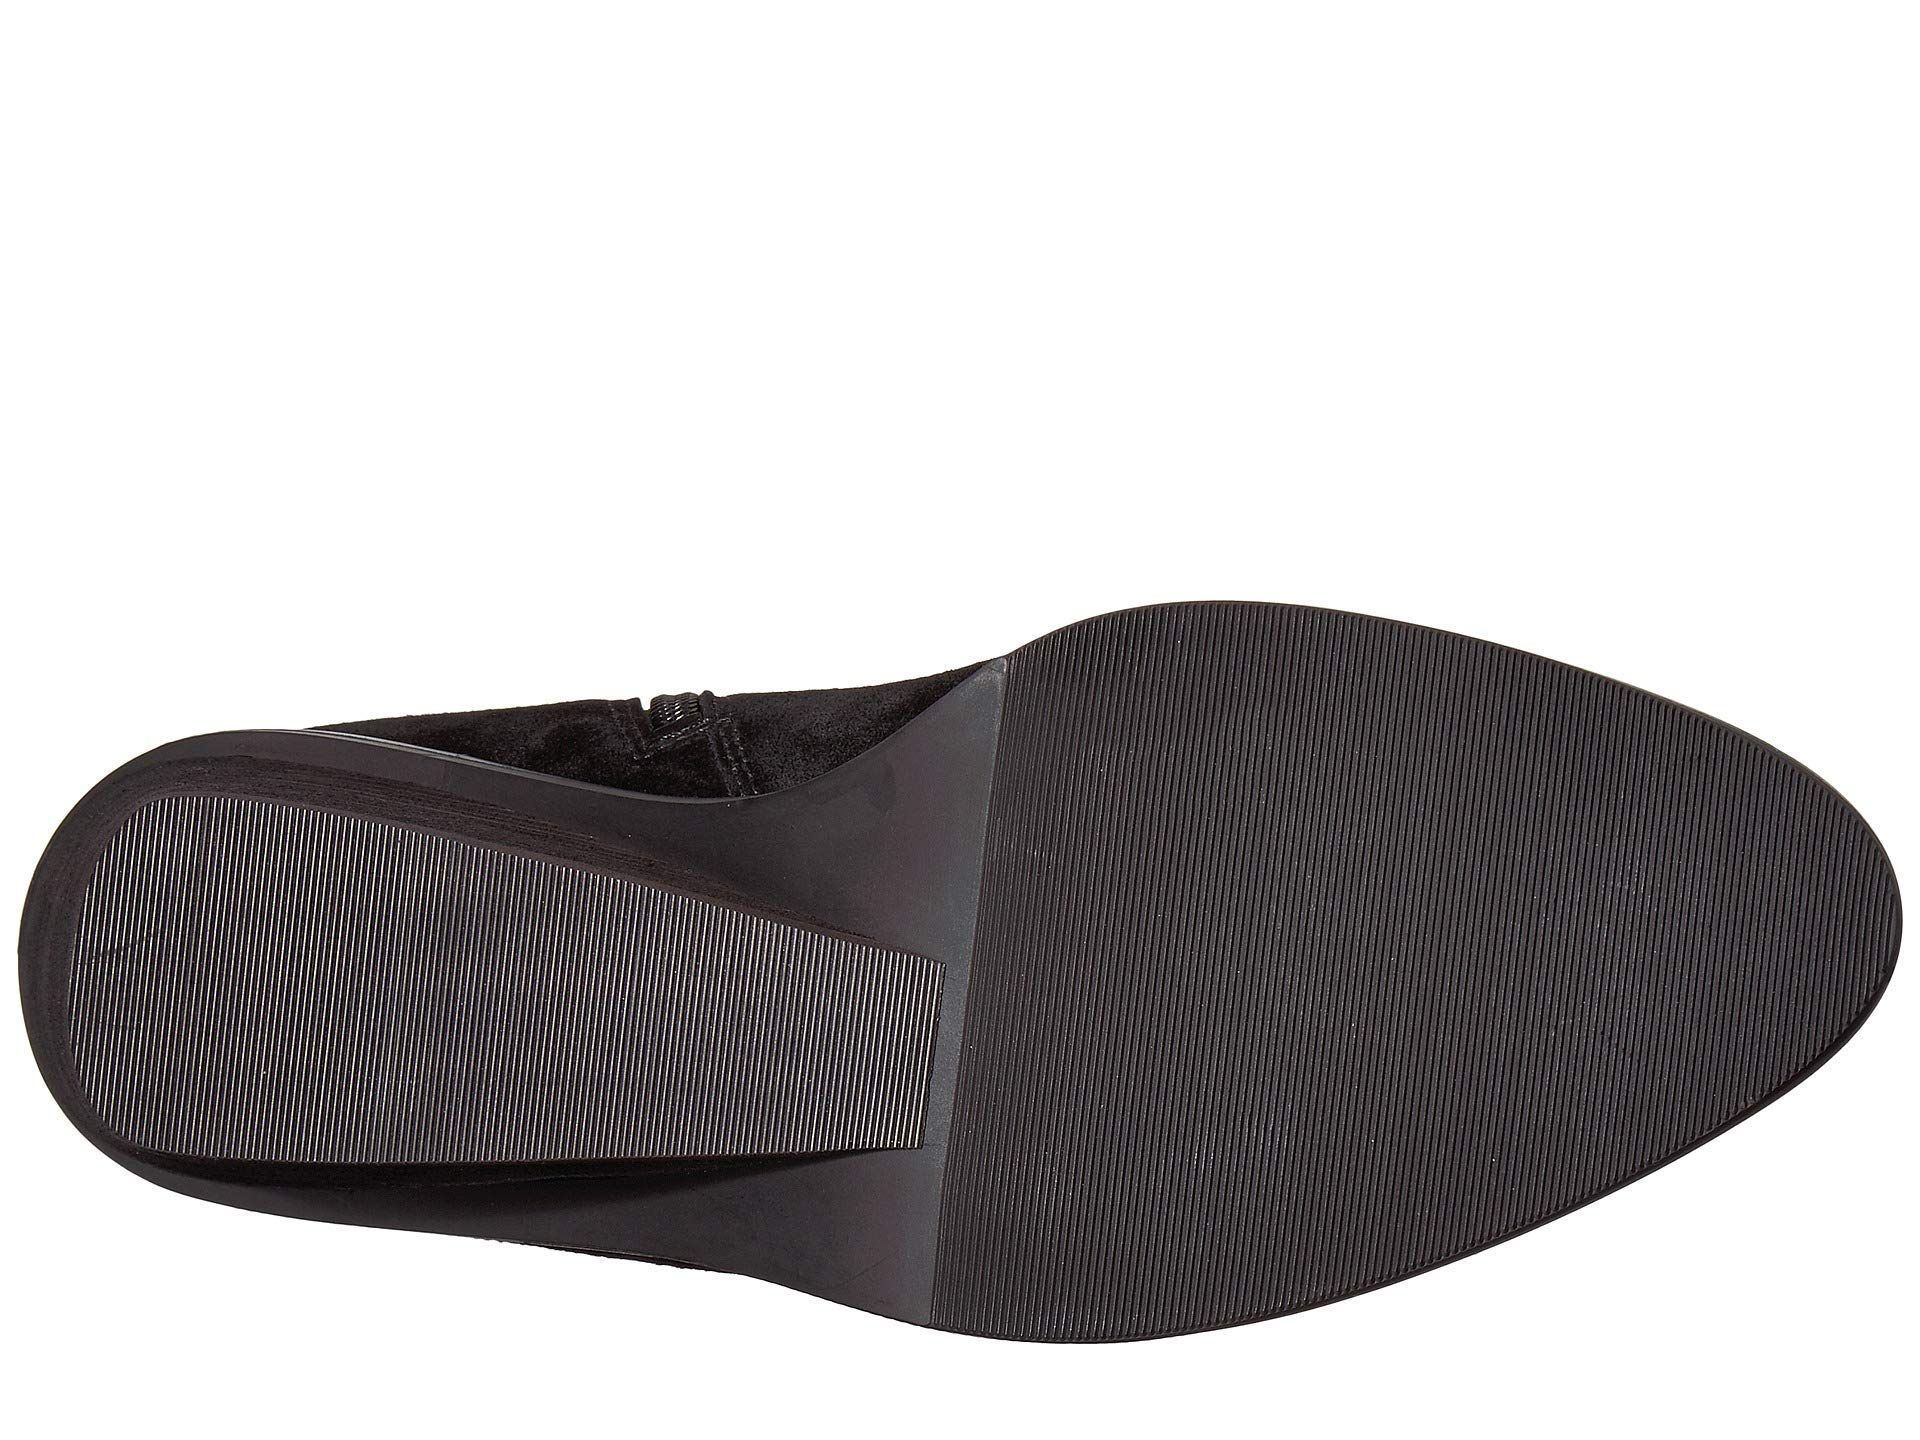line: (1051, 678, 1683, 1165), (113, 830, 701, 1153)
